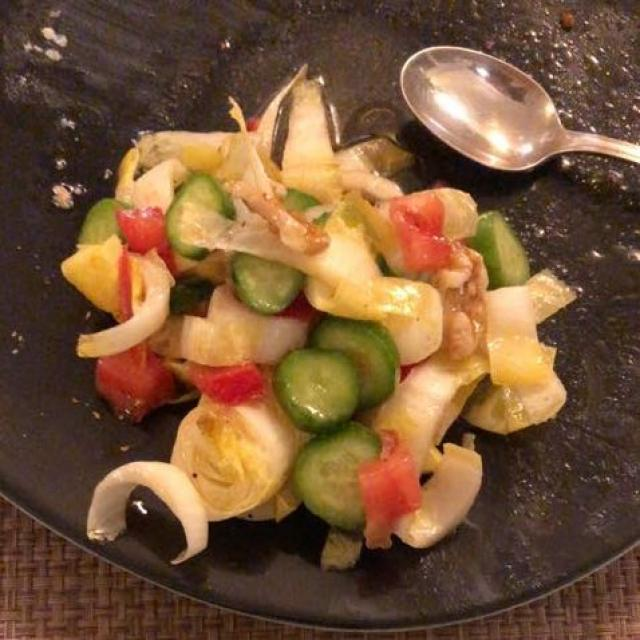tomato-raw: (96, 198, 456, 574)
walnut: (250, 147, 494, 362)
witloof-chicory: (72, 80, 562, 547)
